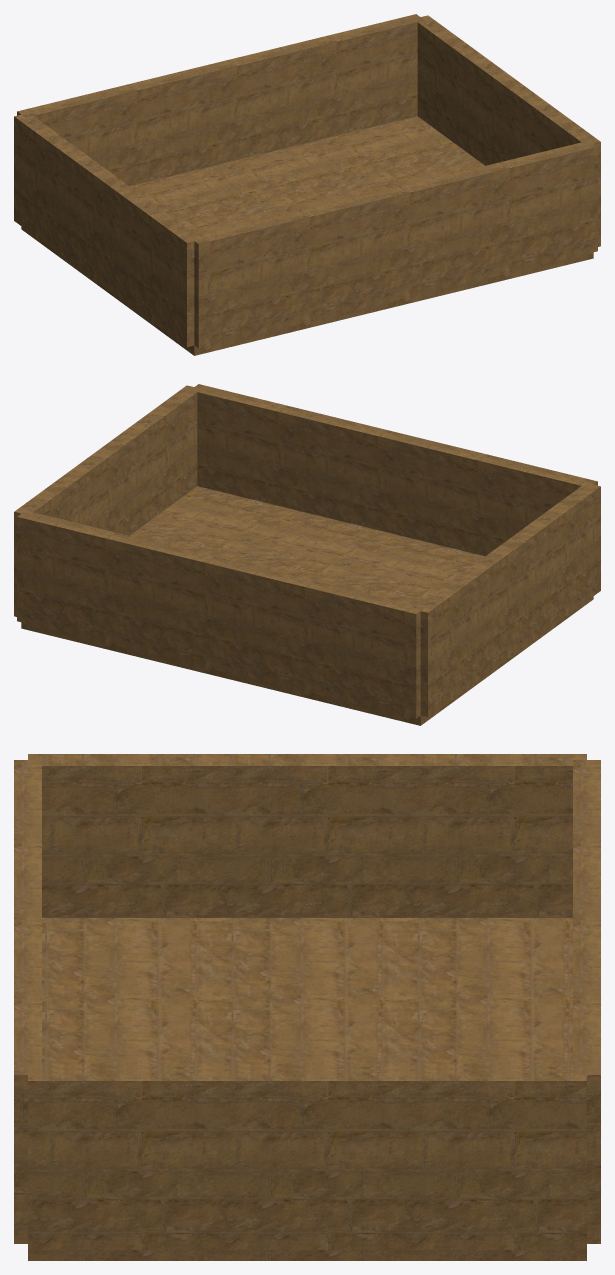
File: grade_telhado.glb
The picture shows the model from 3 angles, top to bottom: view 1: azimuth 30°, elevation 25°; view 2: azimuth 150°, elevation 25°; view 3: azimuth 270°, elevation 25°; orthographic projection. The views are drawn at different scales.
Visible parts, largest first — view 1: Parapeito.001, Parapeito, Terraço, Parapeito.002, Parapeito.003; view 2: Parapeito, Parapeito.001, Terraço, Parapeito.002, Parapeito.003; view 3: Parapeito.003, Parapeito.002, Terraço, Parapeito.001, Parapeito.
Boxes of the visible parts, bbox=[...] form: Parapeito.001: bbox=[190, 141, 597, 348]; Parapeito: bbox=[17, 14, 424, 186]; Terraço: bbox=[21, 116, 593, 355]; Parapeito.002: bbox=[14, 114, 199, 347]; Parapeito.003: bbox=[416, 15, 600, 246]; Parapeito: bbox=[17, 512, 424, 718]; Parapeito.001: bbox=[190, 384, 597, 556]; Terraço: bbox=[21, 486, 593, 725]; Parapeito.002: bbox=[414, 484, 600, 717]; Parapeito.003: bbox=[14, 385, 197, 616]; Parapeito.003: bbox=[28, 1069, 586, 1249]; Parapeito.002: bbox=[28, 754, 586, 917]; Terraço: bbox=[28, 918, 586, 1260]; Parapeito.001: bbox=[14, 760, 41, 1243]; Parapeito: bbox=[573, 760, 600, 1243].
Size of the model in its own units: 4.15 by 1.1 by 3.15.
Materials: 1 (1 with a texture image).
